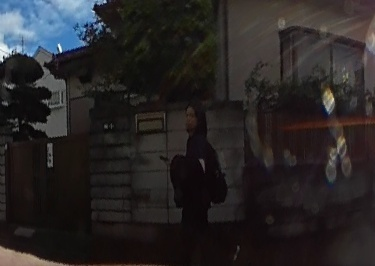person: (169, 99, 225, 259)
